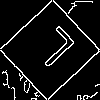L: (24, 24, 78, 76)
